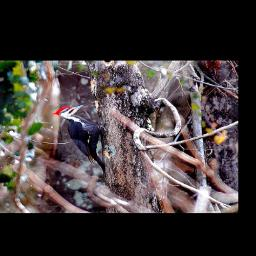Woodpecker: (49, 104, 106, 176)
